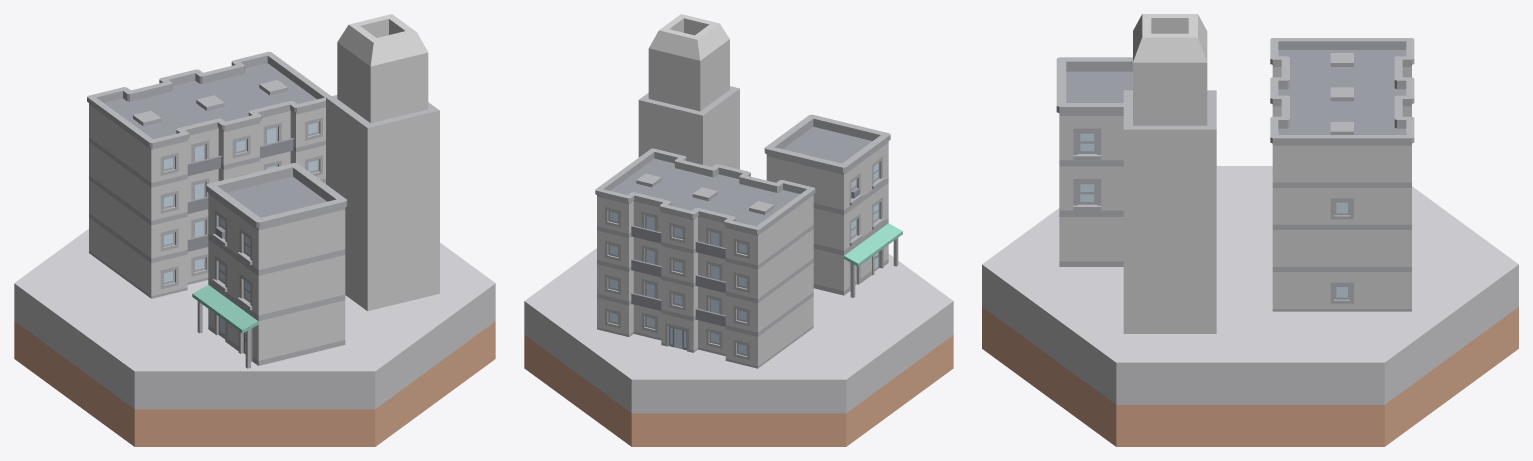
File: 3_buildings_1_high.fbx
3 renders of one model, left to right at view 1: azimuth 30°, elevation 25°; view 2: azimuth 150°, elevation 25°; view 3: azimuth 270°, elevation 25°, orthographic. The views are drawn at different scales.
Visible parts, largest first — view 1: pavement_high.010, large_buildingA, low_buildingH, small_buildingD; view 2: pavement_high.010, large_buildingA, small_buildingD, low_buildingH; view 3: pavement_high.010, large_buildingA, low_buildingH, small_buildingD.
Boxes of the visible parts, box(x1,y1,x2,y2) form: pavement_high.010: box(14, 229, 495, 446); large_buildingA: box(87, 51, 331, 298); low_buildingH: box(326, 14, 439, 311); small_buildingD: box(192, 163, 347, 368); pavement_high.010: box(524, 248, 953, 446); large_buildingA: box(595, 148, 815, 368); small_buildingD: box(764, 114, 902, 297); low_buildingH: box(638, 14, 739, 169); pavement_high.010: box(982, 166, 1518, 446); large_buildingA: box(1270, 38, 1414, 311); low_buildingH: box(1123, 14, 1216, 333); small_buildingD: box(1056, 57, 1132, 266).
Size of the model in its own units: 100 by 88.47 by 115.
